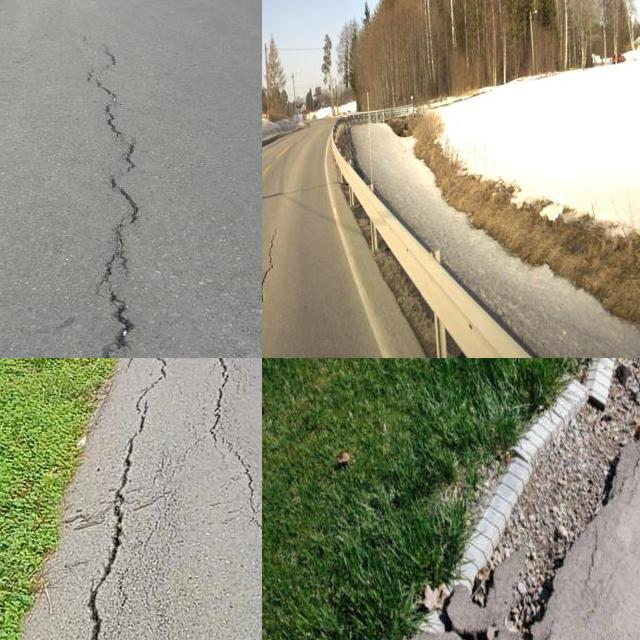Memanjang: (74, 358, 178, 640), (74, 39, 154, 358), (198, 358, 262, 549)
Pinggir: (375, 358, 640, 640)
